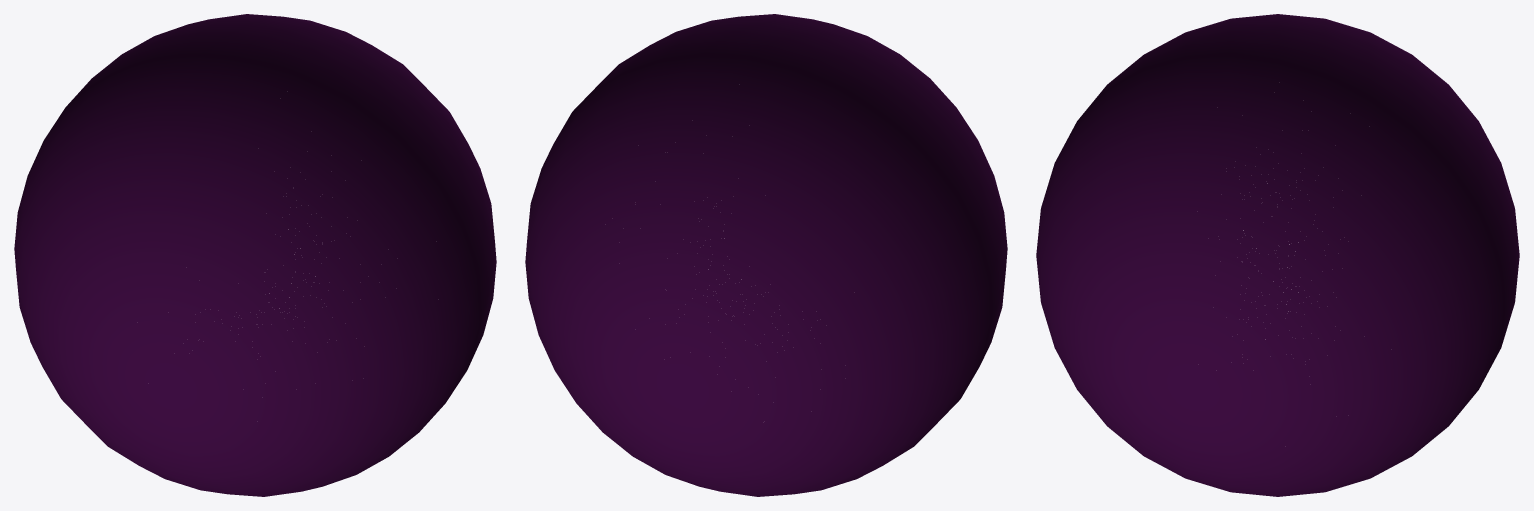
The model's file is background-space.glb.
3 views of the same model, side by side, from view 1: azimuth 30°, elevation 25°; view 2: azimuth 150°, elevation 25°; view 3: azimuth 270°, elevation 25° (orthographic).
Visible parts, largest first — view 1: background-space; view 2: background-space; view 3: background-space.
Boxes of the visible parts, bbox=[...] form: background-space: bbox=[14, 14, 496, 496]; background-space: bbox=[525, 14, 1007, 496]; background-space: bbox=[1036, 14, 1519, 496].
Size of the model in its own units: 1 by 1 by 1.
